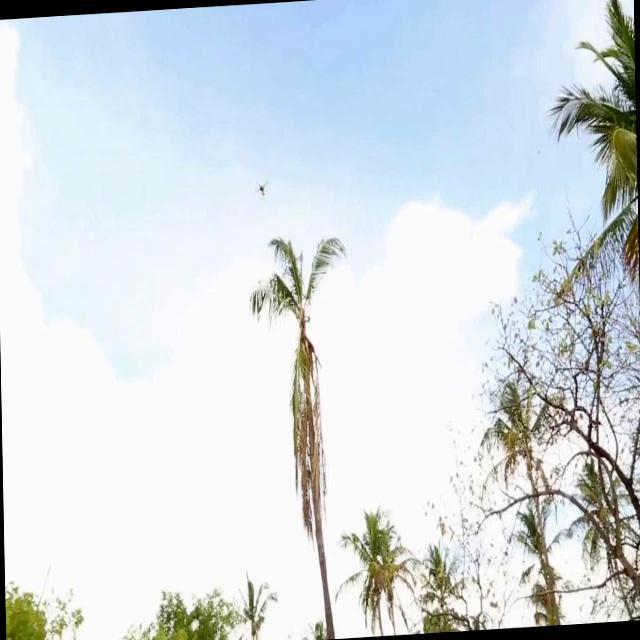drone: (254, 174, 270, 198)
